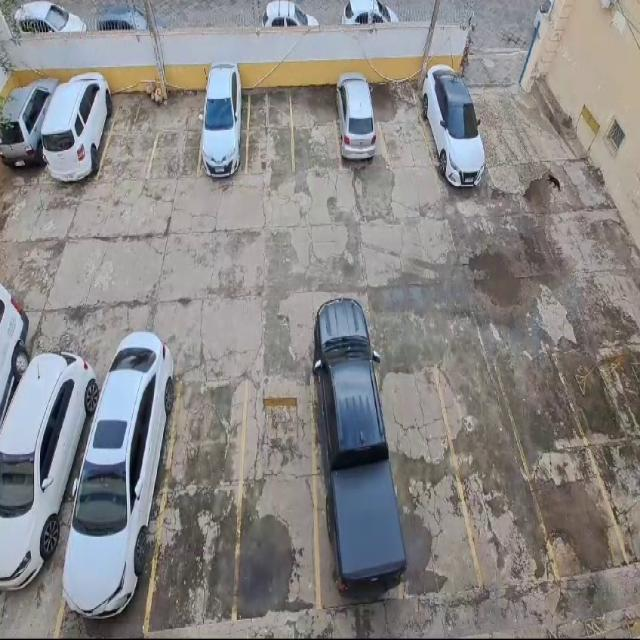empty: (495, 355, 629, 575), (436, 362, 556, 586), (146, 380, 246, 632), (375, 368, 481, 596), (235, 380, 319, 619), (98, 93, 164, 180), (374, 80, 436, 170), (147, 92, 207, 178), (290, 83, 341, 170), (246, 88, 293, 173)
notEmpty: (55, 381, 181, 638), (0, 383, 105, 639), (312, 374, 401, 609), (45, 92, 119, 181), (418, 86, 485, 173), (333, 83, 386, 169), (199, 88, 249, 173)
